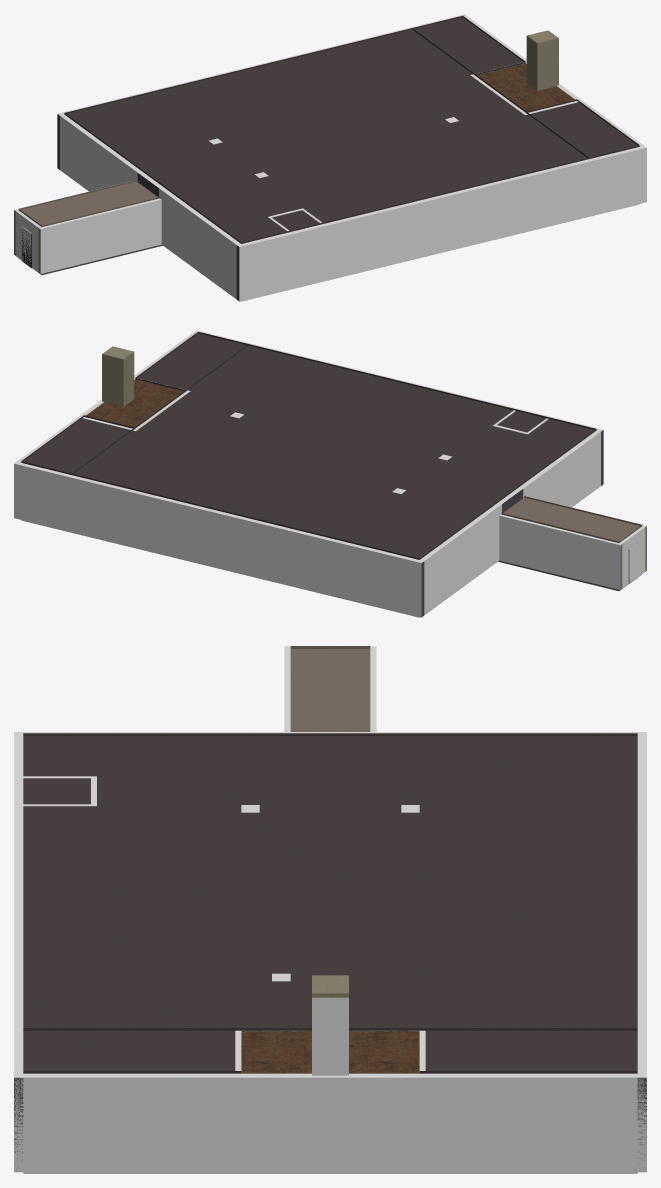
3 views of the same model, one above another, from view 1: azimuth 30°, elevation 25°; view 2: azimuth 150°, elevation 25°; view 3: azimuth 270°, elevation 25° (orthographic). The views are drawn at different scales.
Parts seen in each view (by area): view 1: S_ceiling_dark, COL, S_ceiling, S_concrete_wall, S_concrete_smooth, S_paint_black; view 2: S_ceiling_dark, COL, S_ceiling, S_concrete_wall, S_concrete_smooth, S_paint_black; view 3: S_ceiling_dark, COL, S_ceiling, S_concrete_smooth, S_paint_black, S_concrete_wall.
Part boxes in pixels (box(x1,y1,x2,y2)): S_ceiling_dark: box(64, 15, 639, 243); COL: box(14, 14, 646, 301); S_ceiling: box(18, 180, 159, 226); S_concrete_wall: box(14, 30, 558, 273); S_concrete_smooth: box(477, 63, 574, 111); S_paint_black: box(57, 114, 239, 301); S_ceiling_dark: box(21, 331, 596, 559); COL: box(14, 330, 646, 617); S_ceiling: box(501, 496, 642, 542); S_concrete_wall: box(102, 346, 646, 589); S_concrete_smooth: box(86, 379, 183, 427); S_paint_black: box(421, 430, 603, 617); S_ceiling_dark: box(23, 733, 637, 1073); COL: box(14, 646, 646, 1173); S_ceiling: box(290, 646, 370, 731); S_concrete_smooth: box(241, 1031, 419, 1073); S_paint_black: box(14, 778, 646, 1171); S_concrete_wall: box(312, 975, 348, 997).
Bounding box in the file's own units: 34.55 × 6.55 × 20.6.
87 materials, 40 textured.
